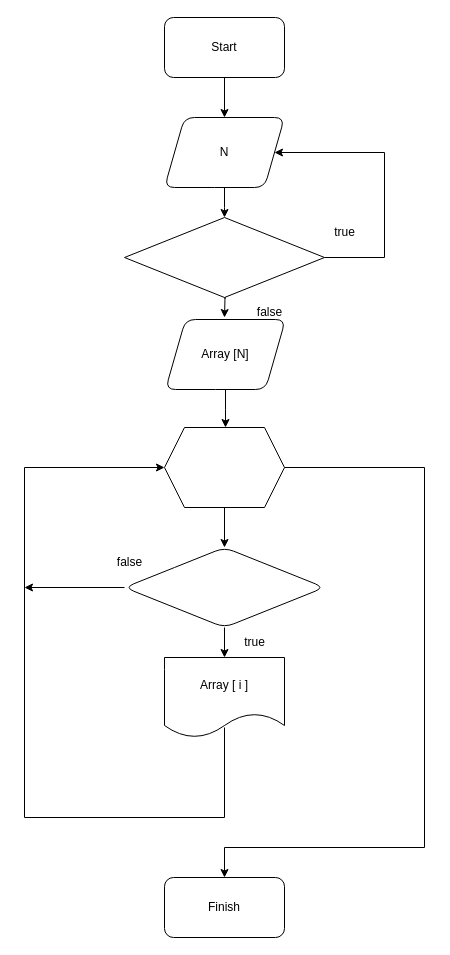
The diagram is 450 pixels wide and 955 high, and some of its shapes have lost their labels. Each missing label, with the centre of its shape:
"Array[ i ].Length<=3" goes at pixel 224 587.
"i=0; i<N; i++" goes at pixel 224 467.
"N<0 || N!=int" goes at pixel 224 257.
